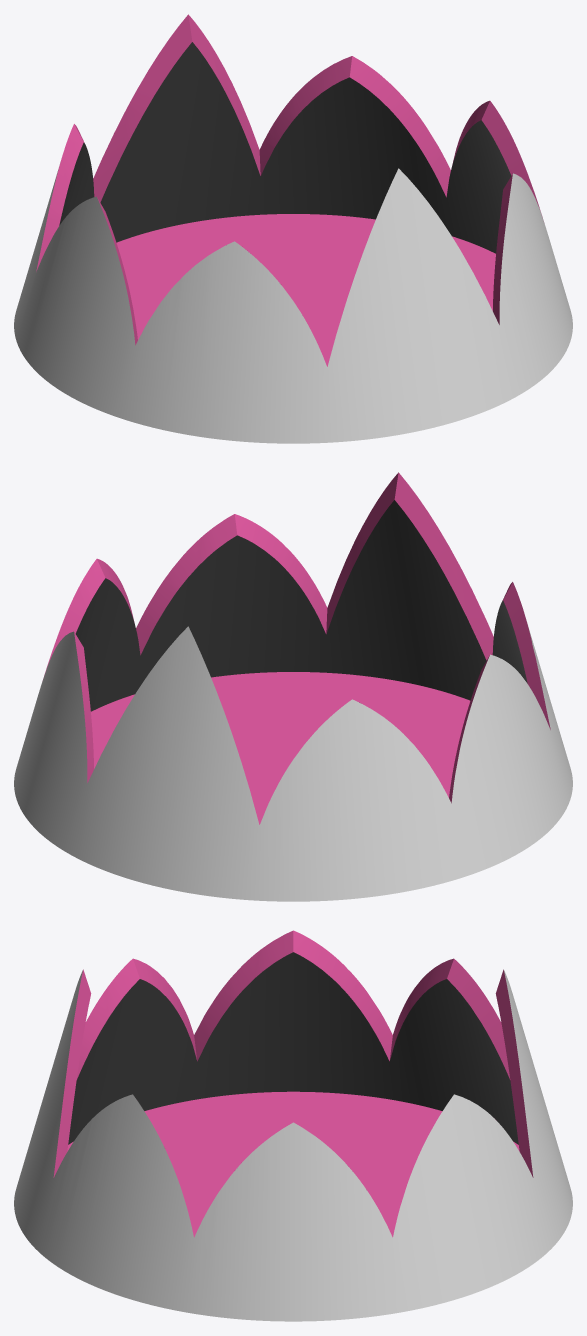
Rendered from Crown.fbx.
3 views of the same model, one above another, from view 1: azimuth 30°, elevation 25°; view 2: azimuth 150°, elevation 25°; view 3: azimuth 270°, elevation 25° (orthographic).
Visible parts, largest first — view 1: Crown; view 2: Crown; view 3: Crown.
Part boxes in pixels (left/top/right/bottom): Crown: left=14, top=14, right=572, bottom=443; Crown: left=14, top=472, right=572, bottom=901; Crown: left=14, top=930, right=572, bottom=1321.
Size of the model in its own units: 38 by 17.58 by 38.
